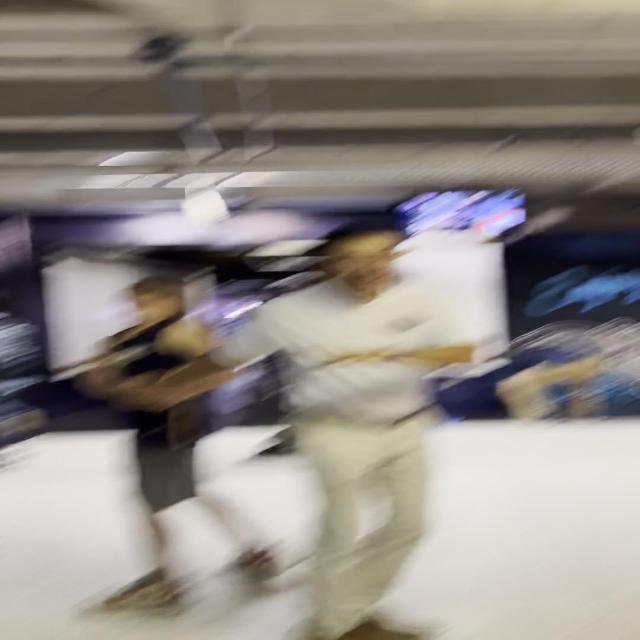NO-Mask: (344, 237, 399, 294)
